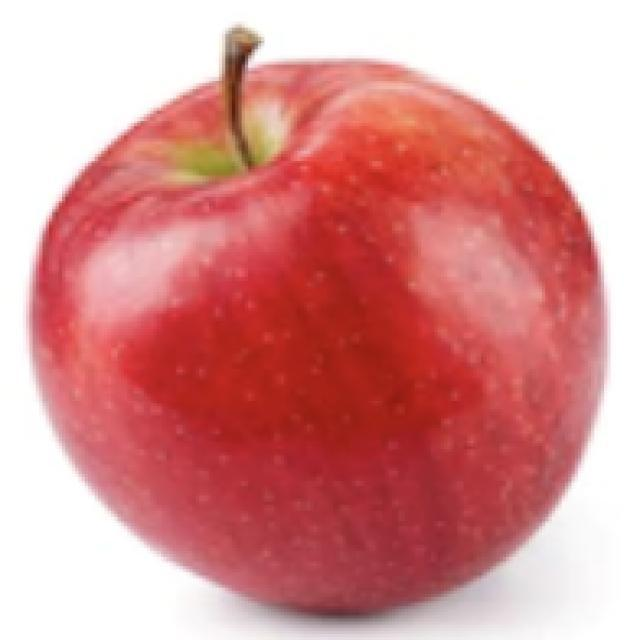Fresh Apple: (52, 65, 613, 640)
